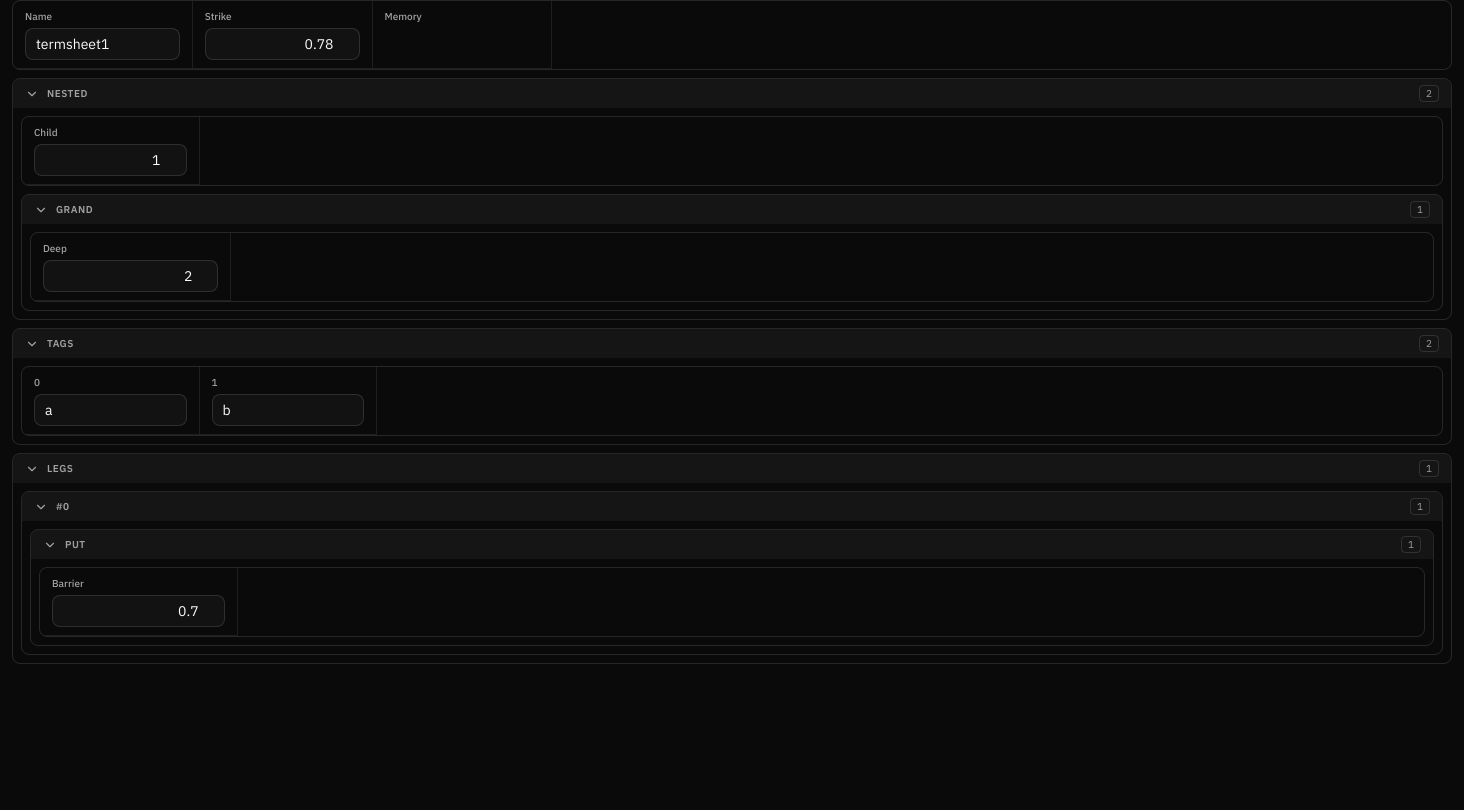
Scenario: TabularForm heuristic › collapses and expands a nested card from its header
Check: the element showing "Child" is shown, box [22, 117, 200, 185]
Click the button "Nested 2" at (67, 94), box [13, 79, 1451, 108]
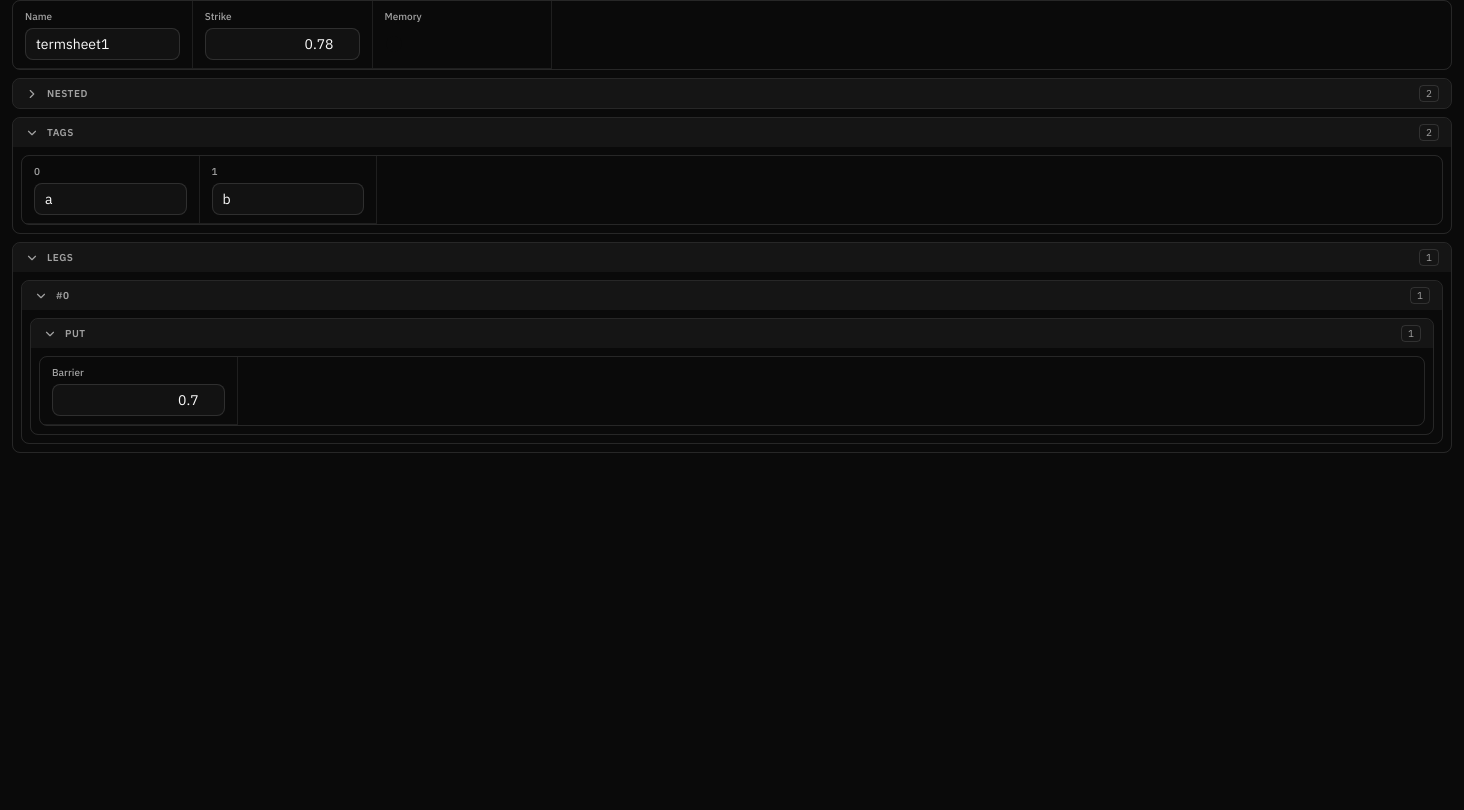
Click the button "Nested 2" at (67, 94), box [13, 79, 1451, 108]
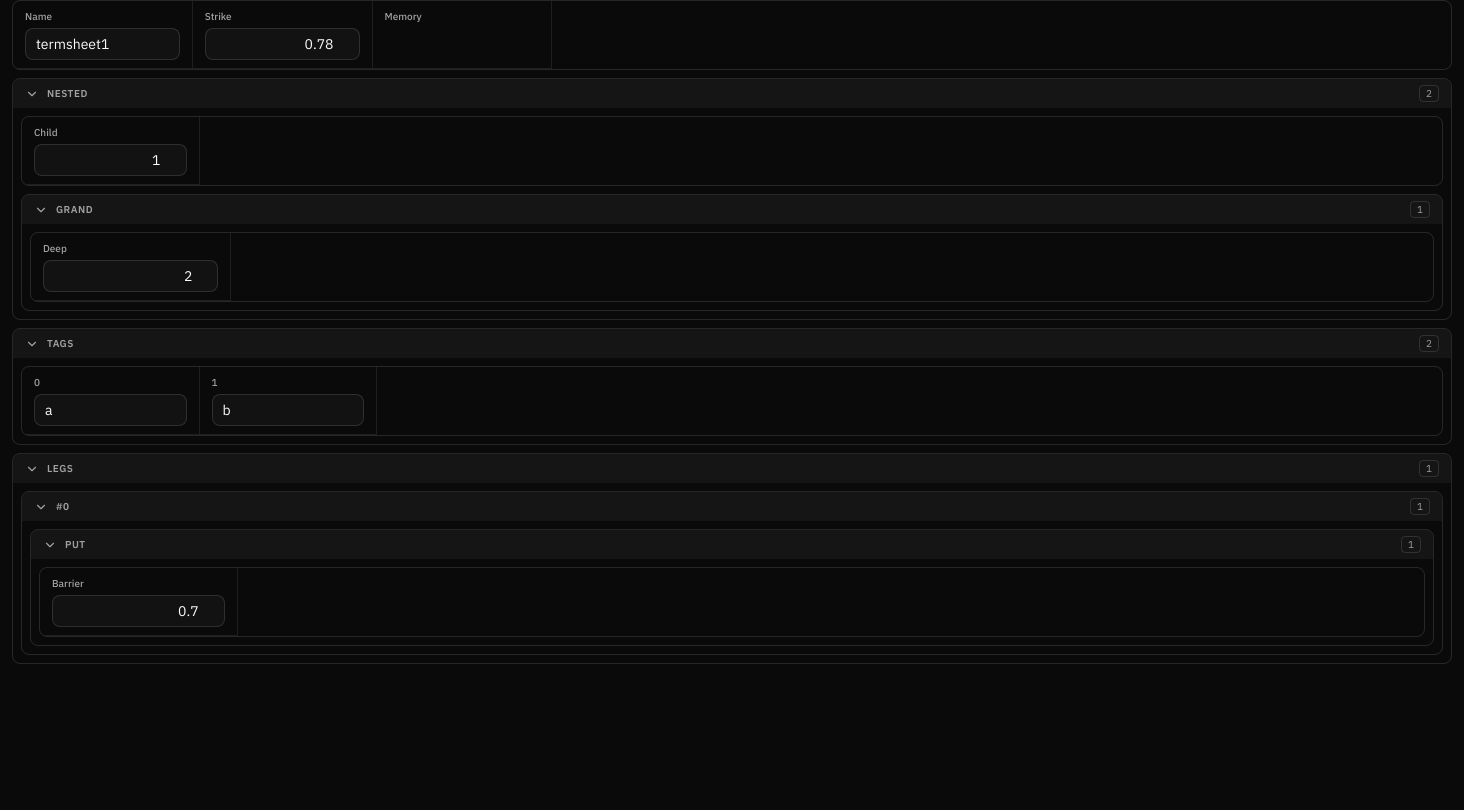
Check: the element showing "Child" is shown, box [22, 117, 200, 185]
